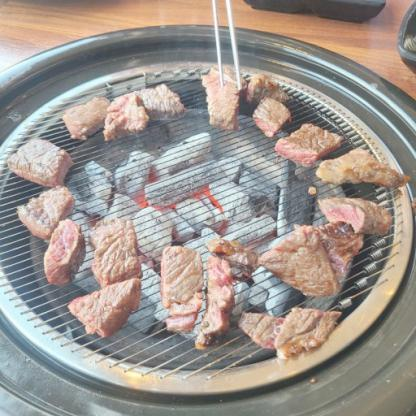Carne: (265, 219, 356, 300), (152, 239, 206, 330), (190, 254, 238, 346), (84, 219, 147, 285), (76, 277, 137, 343), (274, 118, 348, 170), (14, 180, 76, 240), (312, 150, 415, 184), (272, 302, 333, 358), (7, 136, 65, 191), (320, 190, 405, 227), (38, 220, 84, 285), (243, 96, 298, 137), (231, 306, 285, 346), (104, 96, 155, 138), (64, 97, 108, 137), (199, 87, 249, 121), (138, 86, 188, 115)
